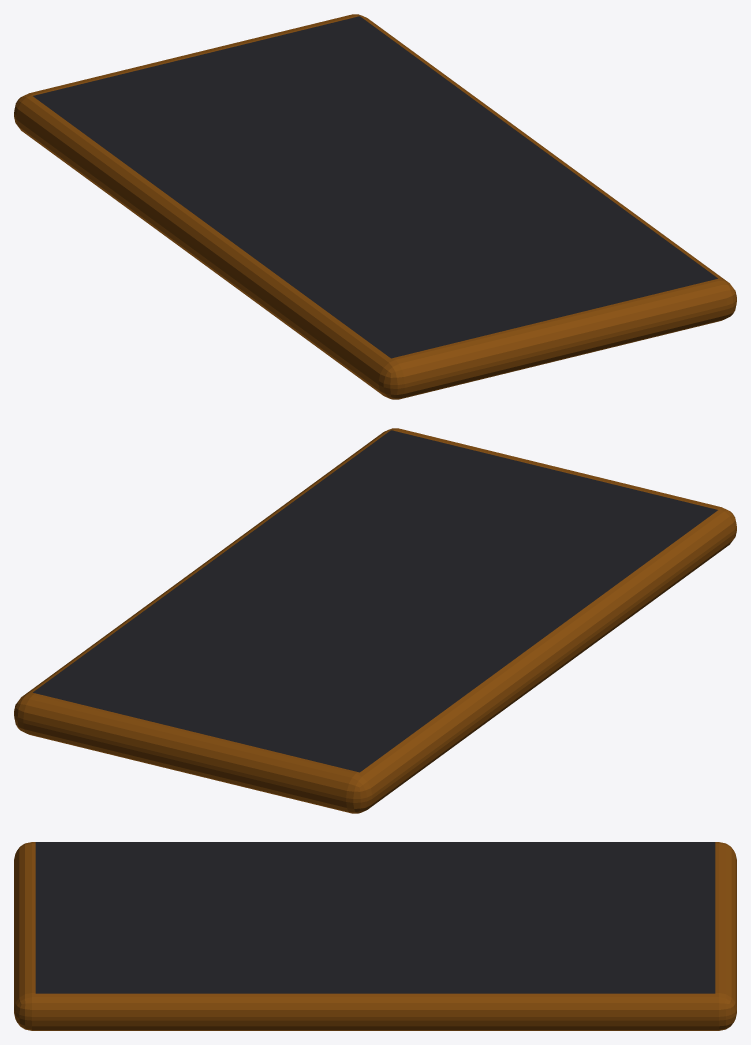
File: Phone_448.glb
The picture shows the model from 3 angles, top to bottom: view 1: azimuth 30°, elevation 25°; view 2: azimuth 150°, elevation 25°; view 3: azimuth 270°, elevation 25°; orthographic projection. The views are drawn at different scales.
Parts seen in each view (by area): view 1: Phone_Screen, Phone_Body; view 2: Phone_Screen, Phone_Body; view 3: Phone_Screen, Phone_Body.
Boxes of the visible parts, x1,y1,x2,y2 form: Phone_Screen: (33, 16, 717, 358); Phone_Body: (14, 14, 736, 399); Phone_Screen: (33, 430, 717, 772); Phone_Body: (14, 428, 736, 813); Phone_Screen: (35, 842, 715, 993); Phone_Body: (14, 842, 736, 1030).
Bounding box in the file's own units: 0.0776 × 0.0081 × 0.1441.
